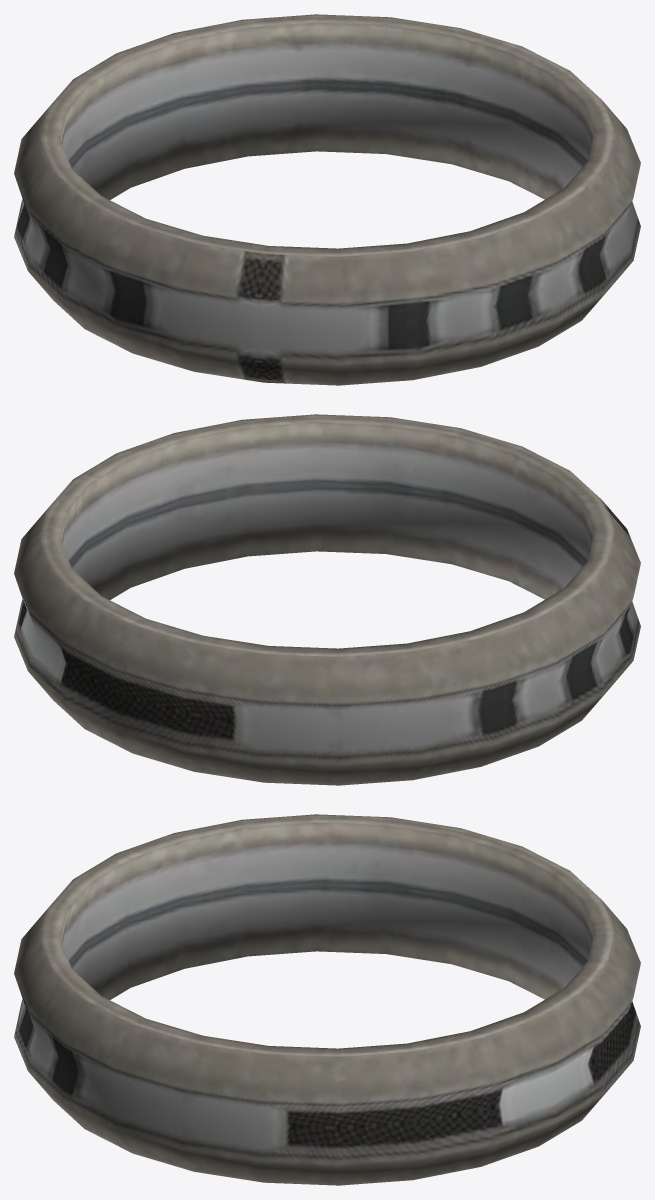
Rendered from Part - Extras 05-Bk4wGBwM.glb.
3 renders of one model, top to bottom at view 1: azimuth 30°, elevation 25°; view 2: azimuth 150°, elevation 25°; view 3: azimuth 270°, elevation 25°, orthographic.
Parts seen in each view (by area): view 1: Extras_05; view 2: Extras_05; view 3: Extras_05.
Boxes of the visible parts, box(x1,y1,x2,y2) form: Extras_05: box(14, 14, 640, 385); Extras_05: box(14, 414, 640, 785); Extras_05: box(14, 814, 640, 1185).
Bounding box in the file's own units: 3.36 × 0.7601 × 3.36.
Materials: 1 (1 with a texture image).
